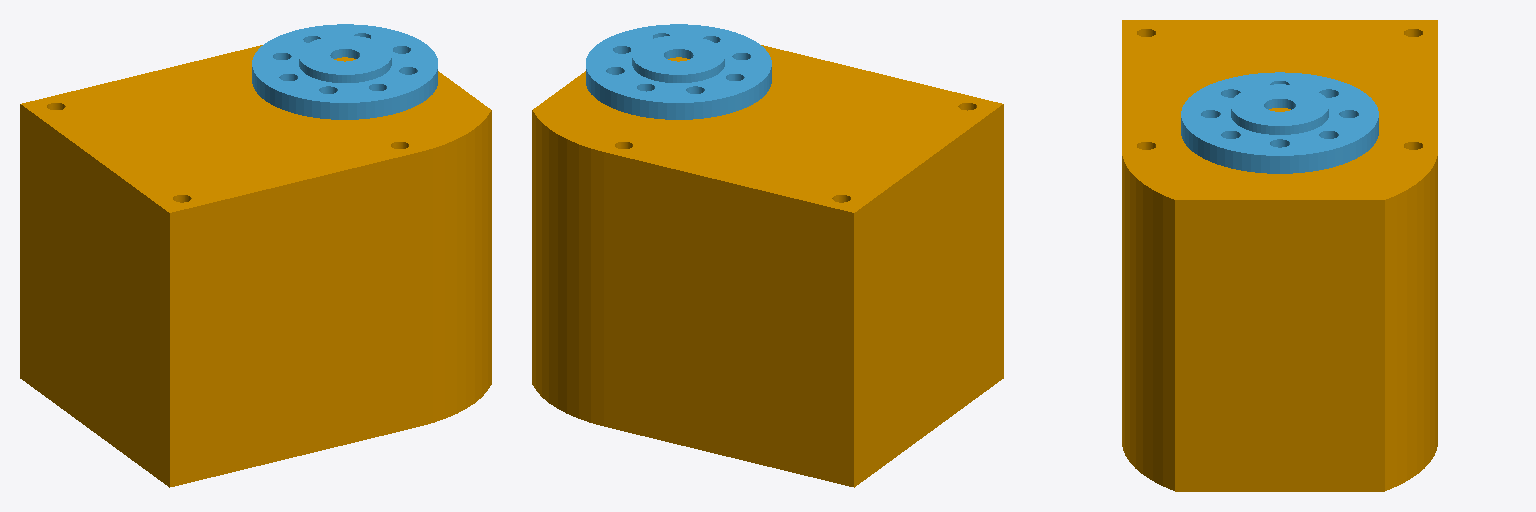
robot.urdf — motor:
<?xml version="1.0"?>
<!-- URDF model to show single servo motor -->
<robot name="motor">
  <joint type="revolute" name="joint_0">
    <origin xyz="0 0 0" rpy="0 0 0"/>
    <child link="horn">horn</child>
    <parent link="base_link">base_link</parent>
    <axis xyz="0 0 1"/>
    <limit effort="100" velocity="100.0" lower="-500" upper="500" />
  </joint> 
  <link name="base_link">
    <visual>
      <origin xyz="0 0 0" rpy="0 0 0"/>
      <geometry>
        <mesh filename="package://kondo_driver/urdf/meshes/KRS4000.dae" scale="1 1 1" />
      </geometry>
    </visual>
  </link>
  <link name="horn">
    <visual>
      <origin xyz="0 0 0.005" rpy="3.1415 0 0"/>
      <geometry>
        <mesh filename="package://kondo_driver/urdf/meshes/HORN.dae" scale="1 1 1" />
      </geometry>
    </visual>
  </link>
</robot>

--- Render facts (derived) ---
3 views of the same robot in one strip: view 1: azimuth 30°, elevation 25°; view 2: azimuth 150°, elevation 25°; view 3: azimuth 270°, elevation 25° (orthographic).
Robot: motor — 2 links, 1 joints (1 revolute); root link base_link; default pose: every joint at zero.
Visible links, largest first — view 1: base_link, horn; view 2: base_link, horn; view 3: base_link, horn.
Link boxes in pixels (x1,y1,x2,y2): base_link: (20, 45, 491, 487); horn: (252, 24, 437, 119); base_link: (532, 45, 1003, 487); horn: (586, 24, 771, 119); base_link: (1122, 20, 1437, 491); horn: (1181, 72, 1378, 173).
Size in the robot's own frame: 0.043 by 0.032 by 0.0375 metres.
Meshes: 2 distinct files referenced, 2 mesh visuals loaded (2 Collada DAE).
